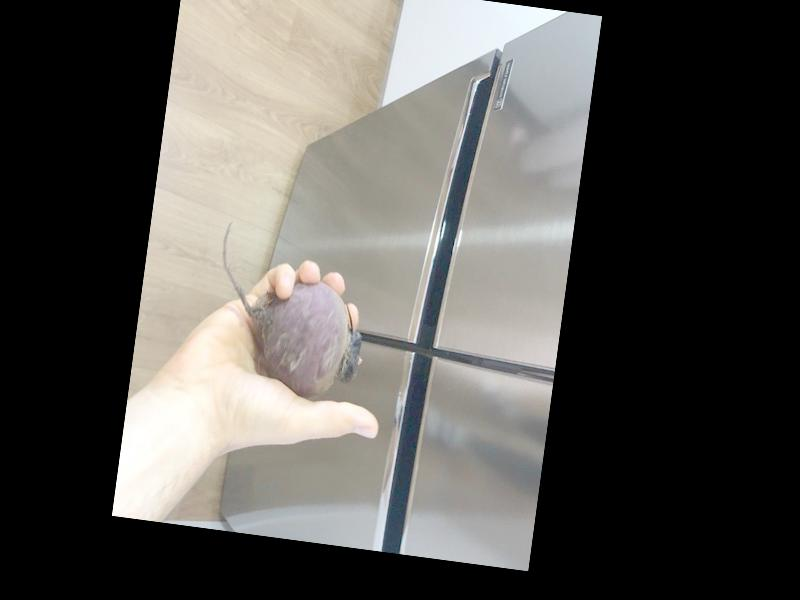Beet: (205, 220, 377, 404)
